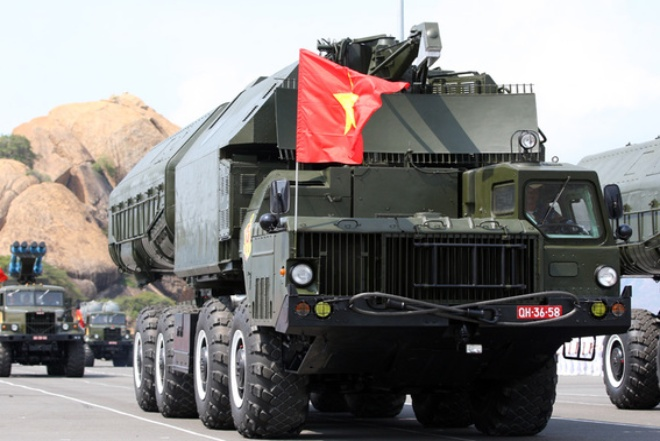plate: (515, 303, 564, 322), (32, 332, 47, 341)
